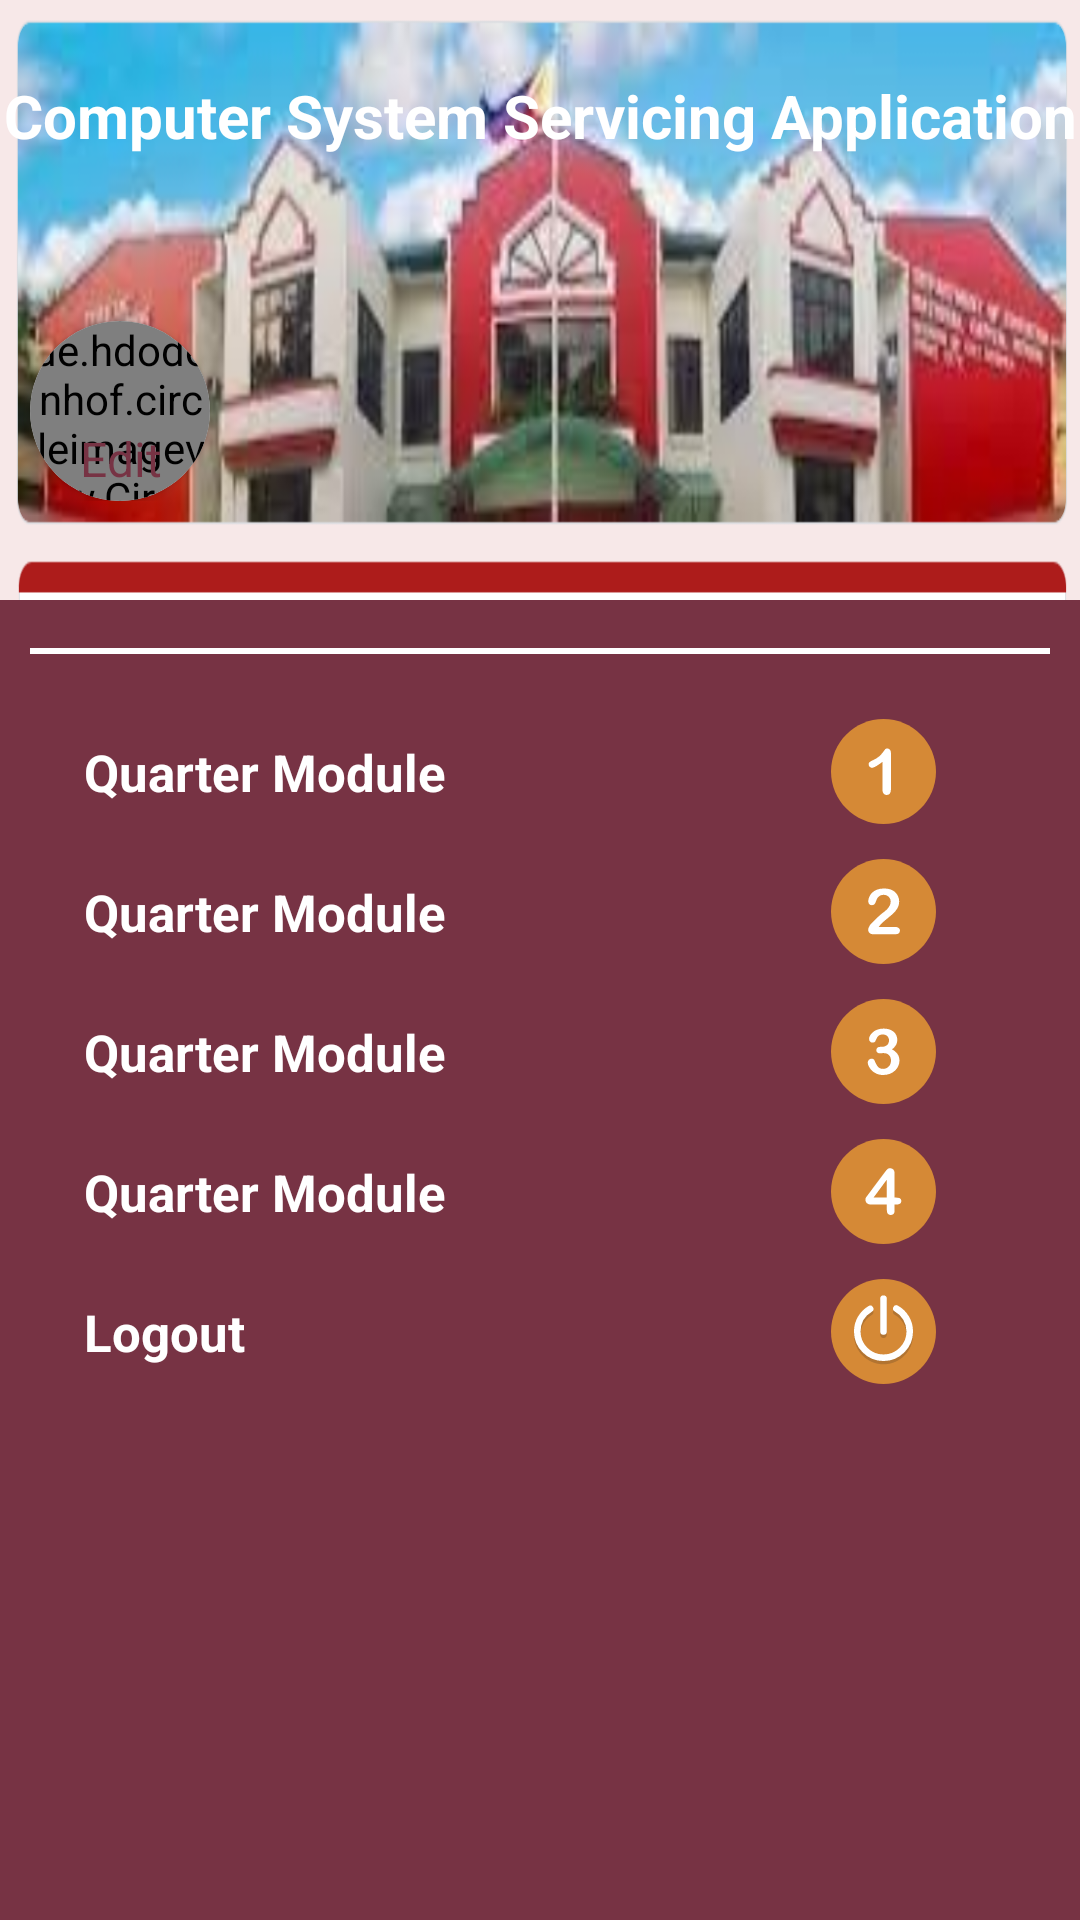

Where icons sit on this 1080px x 1920px app screen, as bbox(x1, y1, x2, y2):
power: bbox(831, 1279, 936, 1384)
